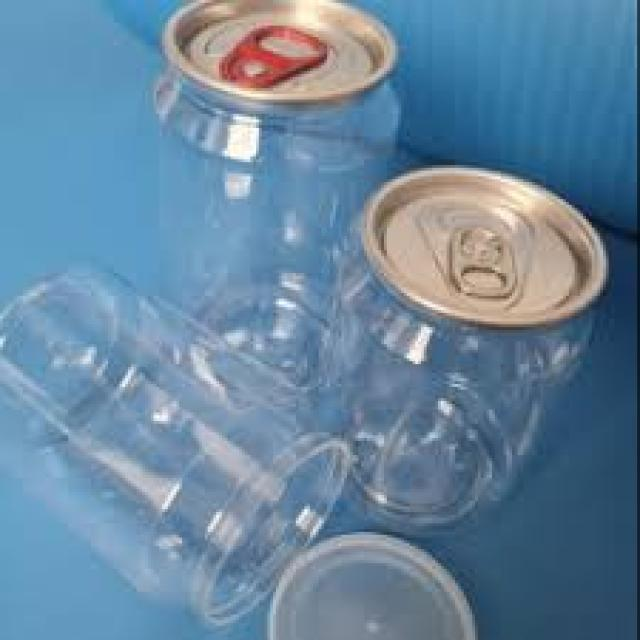good: (0, 270, 350, 629), (303, 172, 609, 532), (150, 0, 404, 398)
